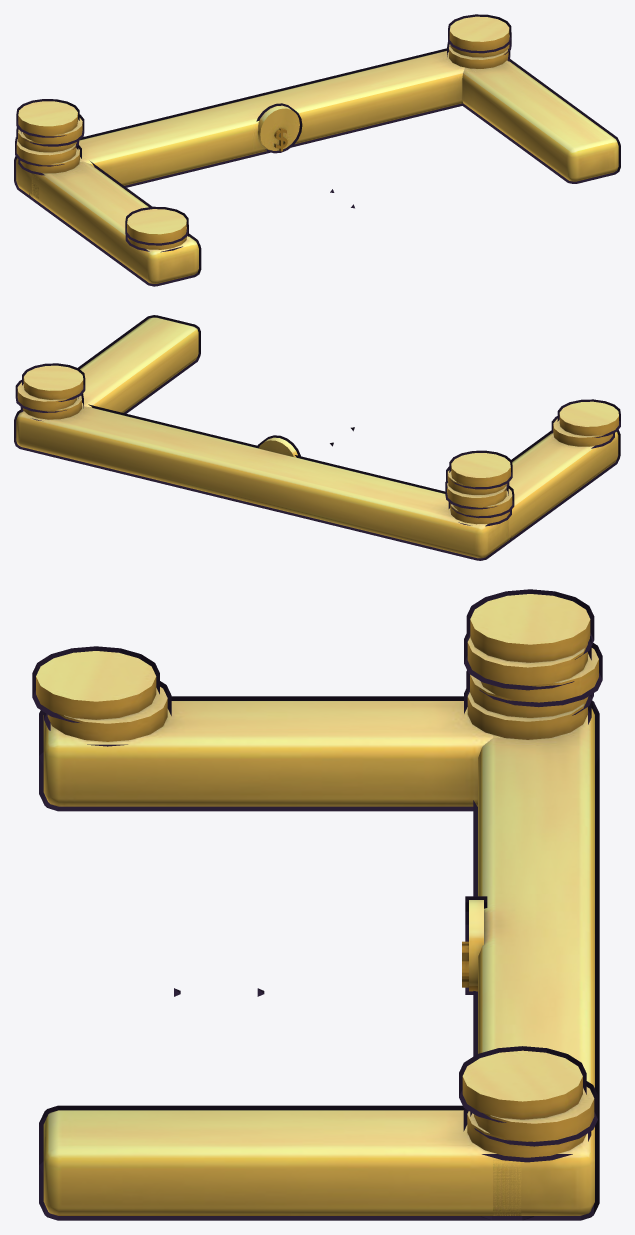
The model's file is CollectTray.glb.
3 views of the same model, one above another, from view 1: azimuth 30°, elevation 25°; view 2: azimuth 150°, elevation 25°; view 3: azimuth 270°, elevation 25° (orthographic). The views are drawn at different scales.
Parts seen in each view (by area): view 1: CollectTray, CollectTray_Outline; view 2: CollectTray, CollectTray_Outline; view 3: CollectTray, CollectTray_Outline.
Part boxes in pixels (<box>): CollectTray: <box>16,16,618,283</box>; CollectTray_Outline: <box>14,14,620,286</box>; CollectTray: <box>16,317,618,558</box>; CollectTray_Outline: <box>14,315,620,560</box>; CollectTray: <box>36,594,598,1215</box>; CollectTray_Outline: <box>32,589,602,1220</box>.
Size of the model in its own units: 13.54 by 2.24 by 6.83.
Materials: 2 (2 with a texture image).
